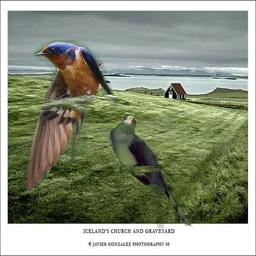Cuckoo: (109, 114, 197, 228)
Swallow: (23, 40, 118, 192)
